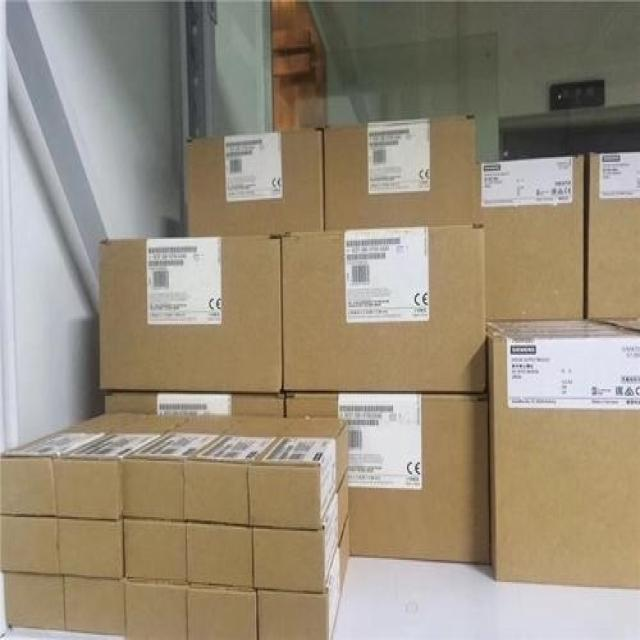box: (485, 317, 640, 591), (284, 393, 490, 567), (280, 224, 486, 394), (99, 232, 283, 394), (474, 155, 585, 323), (323, 114, 476, 229), (186, 126, 325, 236), (0, 415, 136, 521), (52, 415, 187, 519), (123, 416, 237, 521), (256, 515, 349, 640), (251, 473, 348, 592), (184, 418, 287, 529), (250, 416, 348, 526), (585, 150, 640, 317), (104, 391, 284, 420), (123, 519, 188, 582), (186, 584, 257, 640), (59, 519, 123, 579), (188, 527, 252, 587), (0, 515, 61, 577), (63, 577, 125, 637), (123, 582, 187, 638), (4, 573, 64, 630), (590, 316, 640, 335)
